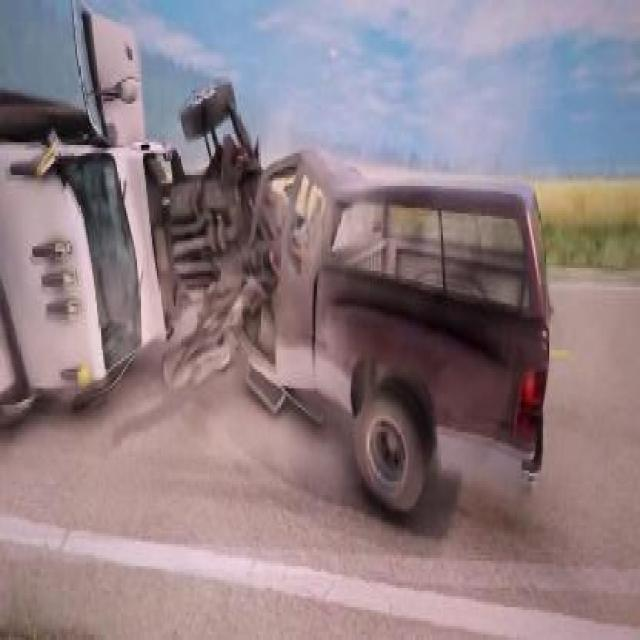accident: (0, 0, 555, 522)
